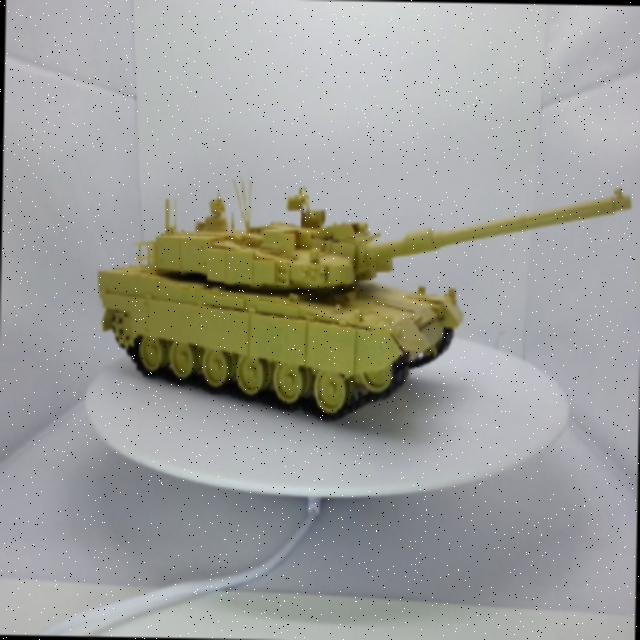korea tank: (55, 164, 638, 436)
